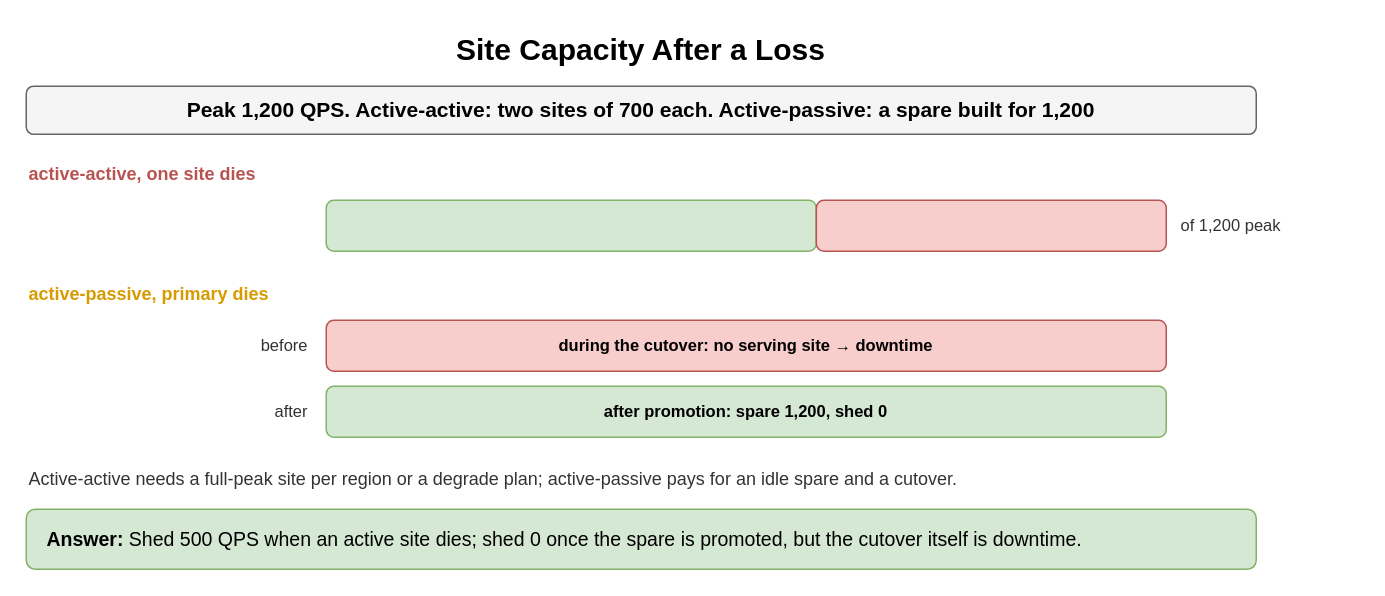
Some shapes in this 1385 by 596 pixel diagram are drawn without their labels. Each missing label, with the box of its shape:
shed 500: (815, 199, 1166, 251)
surviving site 700: (325, 199, 816, 251)
